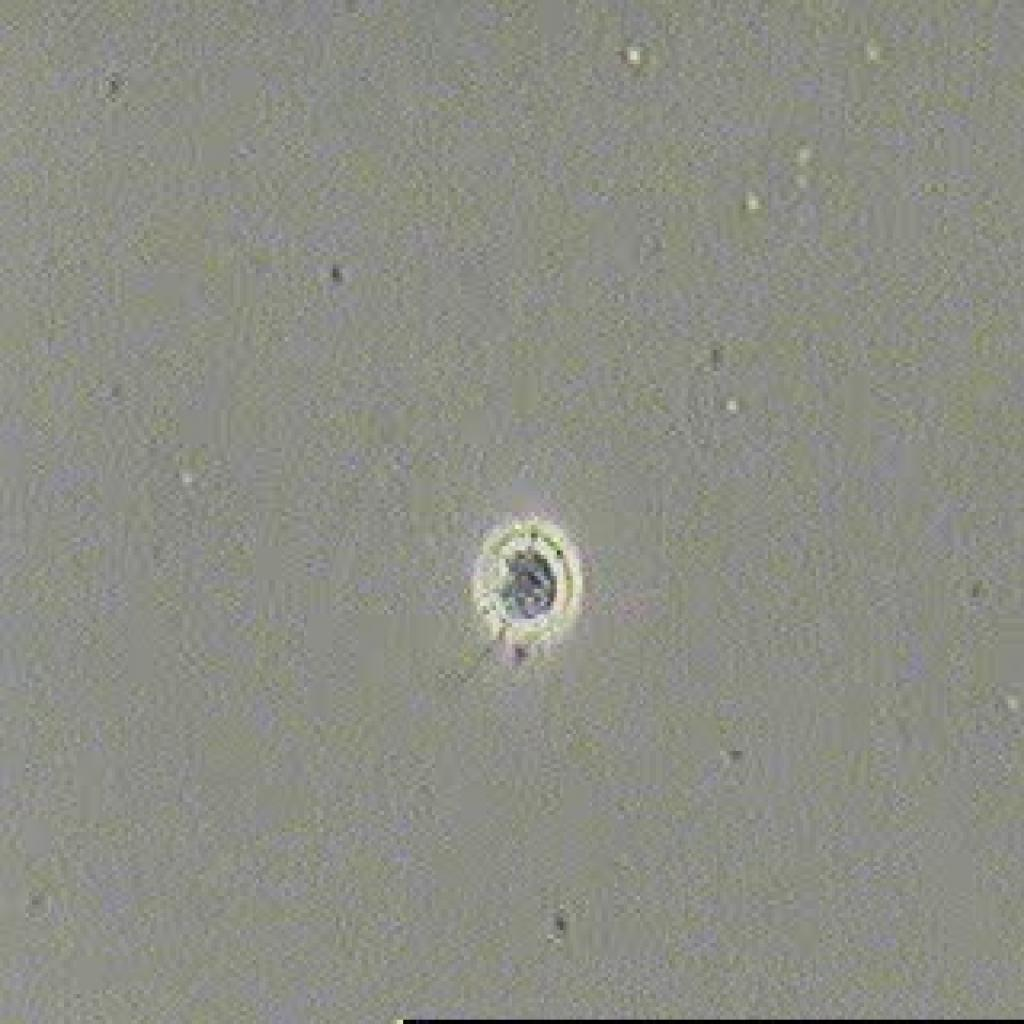Flagellates: (419, 484, 608, 719)
